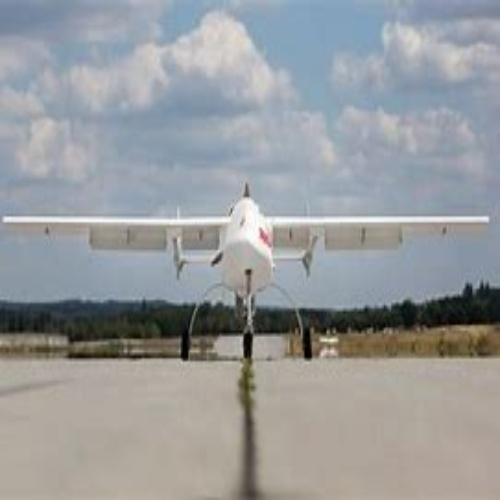uav: (1, 185, 493, 365)
